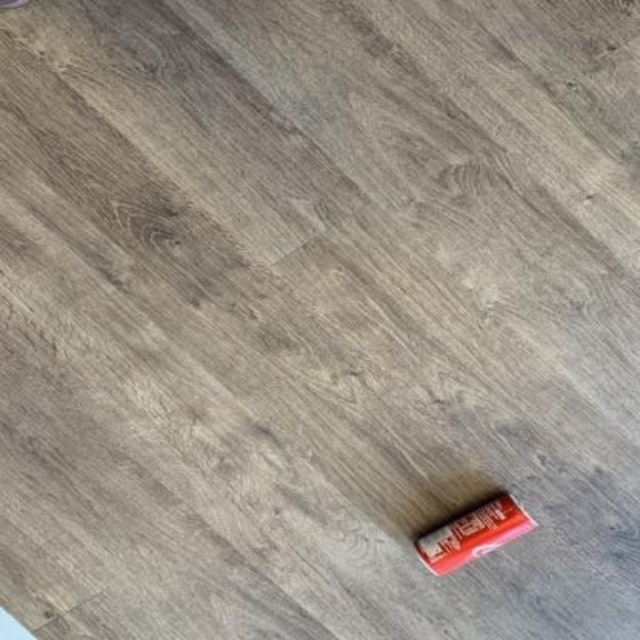trash: (415, 492, 535, 574), (0, 0, 25, 8)
